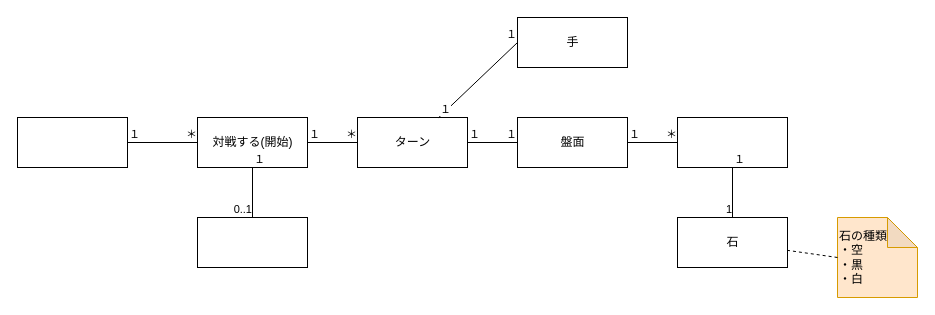
Some shapes in this 935 by 315 pixel diagram are drawn without their labels. The centre of each missing label's shape, as x and y in pixels:
プレイヤー: the point at 72,142
マス目: the point at 732,142
対戦結果: the point at 252,242
